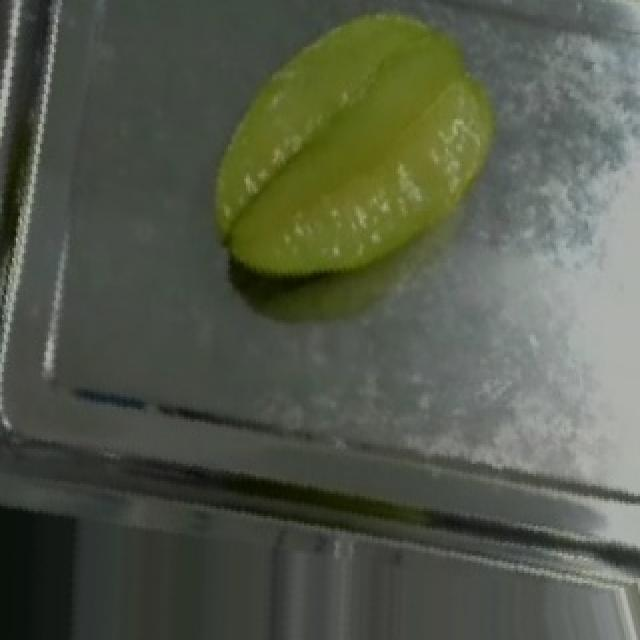fruit: (180, 2, 532, 325)
